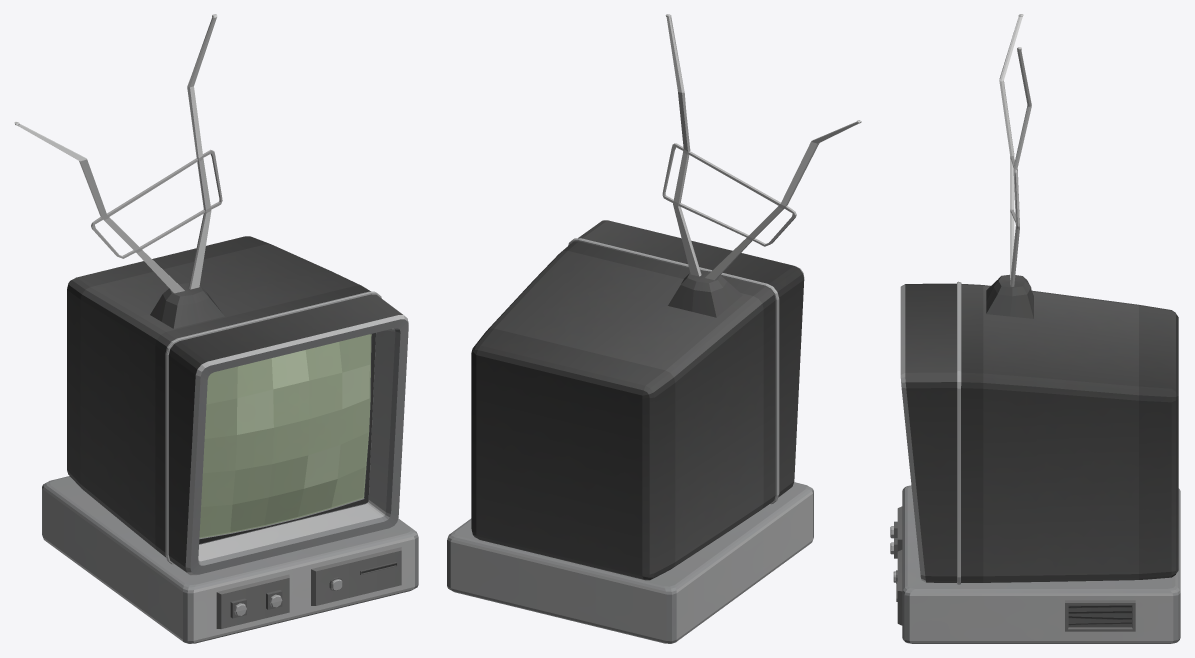
3 renders of one model, left to right at view 1: azimuth 30°, elevation 25°; view 2: azimuth 150°, elevation 25°; view 3: azimuth 270°, elevation 25°, orthographic. The views are drawn at different scales.
Visible parts, largest first — view 1: tv, tv_stand; view 2: tv, tv_stand; view 3: tv, tv_stand.
Part boxes in pixels (x1=…): tv: x1=14, y1=14, x2=408, y2=575; tv_stand: x1=42, y1=476, x2=418, y2=643; tv: x1=471, y1=14, x2=861, y2=580; tv_stand: x1=447, y1=482, x2=813, y2=643; tv: x1=900, y1=14, x2=1178, y2=584; tv_stand: x1=890, y1=485, x2=1180, y2=643.
Size of the model in its own units: 0.6661 by 1.03 by 0.51.
Materials: 1 (1 with a texture image).
